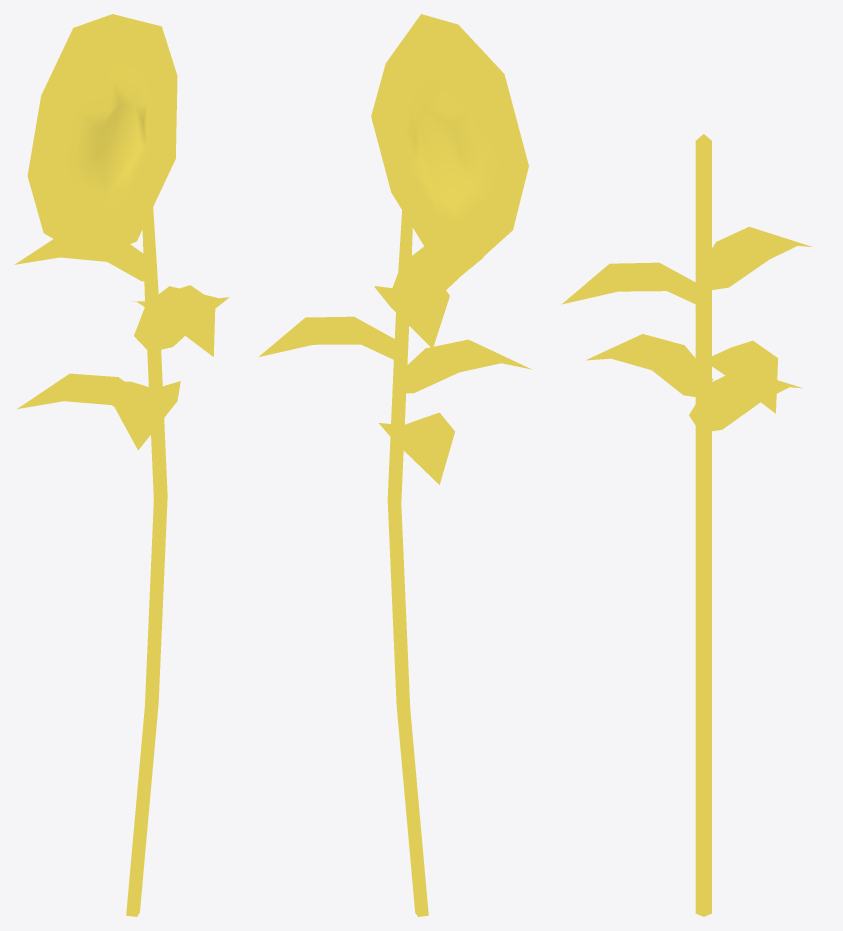
File: SM_Sunflower.glb
The picture shows the model from 3 angles, left to right: view 1: azimuth 30°, elevation 25°; view 2: azimuth 150°, elevation 25°; view 3: azimuth 270°, elevation 25°; orthographic projection. The views are drawn at different scales.
Visible parts, largest first — view 1: SM_Sunflower; view 2: SM_Sunflower; view 3: SM_Sunflower.
Boxes of the visible parts, x1,y1,x2,y2 form: SM_Sunflower: (14,14,229,916); SM_Sunflower: (259,14,531,916); SM_Sunflower: (562,134,811,916).
Bounding box in the file's own units: 0.2897 × 1.24 × 0.332.
